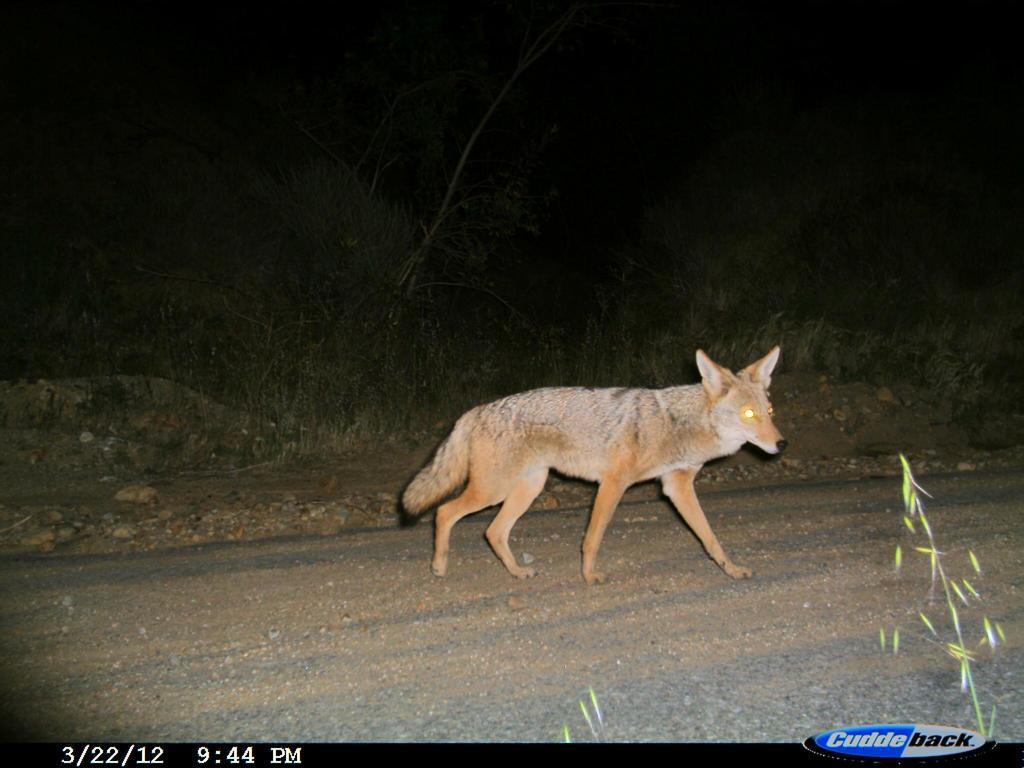coyote: (395, 341, 792, 591)
